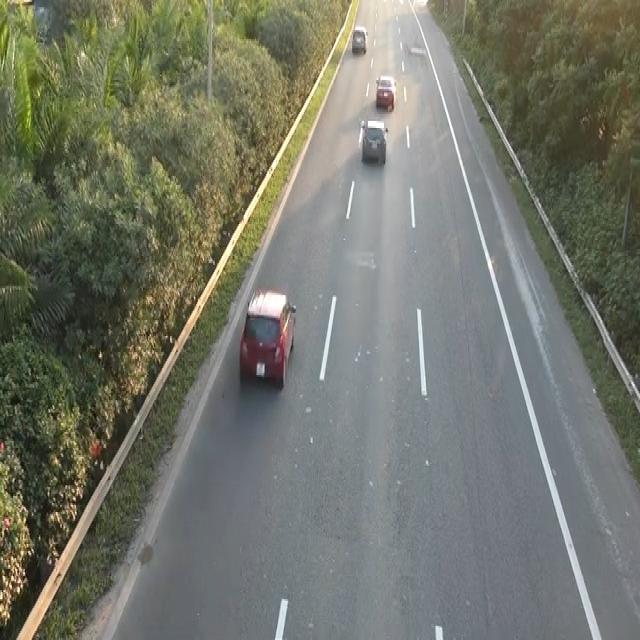bus: (237, 282, 297, 388), (358, 116, 388, 166), (374, 71, 397, 110)
